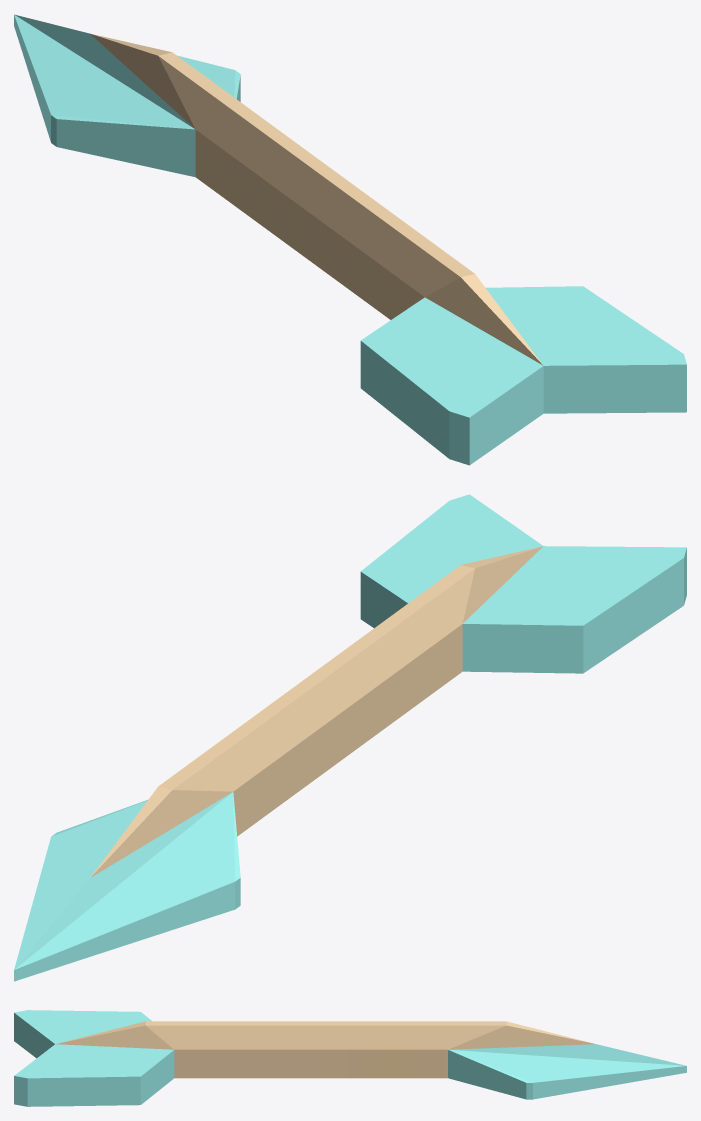
The model's file is HunterArrow.glb.
The picture shows the model from 3 angles, top to bottom: view 1: azimuth 30°, elevation 25°; view 2: azimuth 150°, elevation 25°; view 3: azimuth 270°, elevation 25°; orthographic projection. The views are drawn at different scales.
Parts seen in each view (by area): view 1: Plane; view 2: Plane; view 3: Plane.
Part boxes in pixels (box(x1,y1,x2,y2)): Plane: box(14, 14, 686, 465); Plane: box(14, 494, 686, 981); Plane: box(14, 1010, 686, 1106).
Size of the model in its own units: 0.5133 by 0.1729 by 2.14.
Materials: 1 (1 with a texture image).
